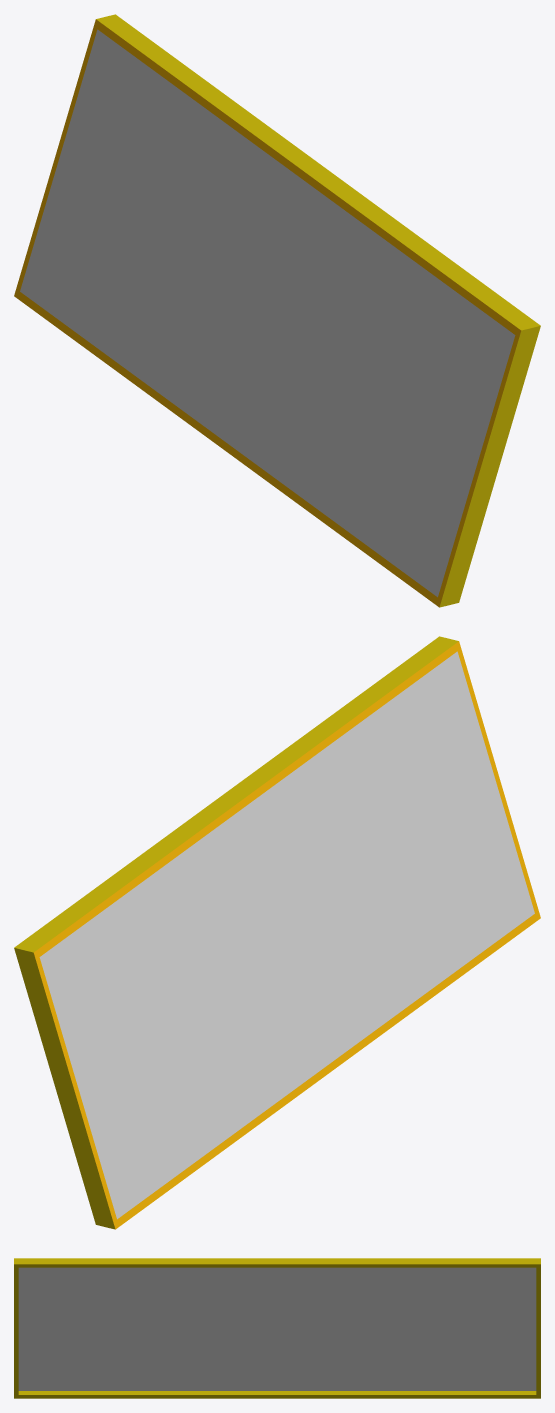
File: window_slanted_9x1x3.dae
3 renders of one model, top to bottom at view 1: azimuth 30°, elevation 25°; view 2: azimuth 150°, elevation 25°; view 3: azimuth 270°, elevation 25°, orthographic. The views are drawn at different scales.
Parts seen in each view (by area): view 1: Cube; view 2: Cube; view 3: Cube.
Part boxes in pixels (x1,y1,x2,y2): Cube: (14,14,540,607); Cube: (14,636,540,1229); Cube: (14,1258,540,1398).
Size of the model in its own units: 0.31 by 2.25 by 0.75.
